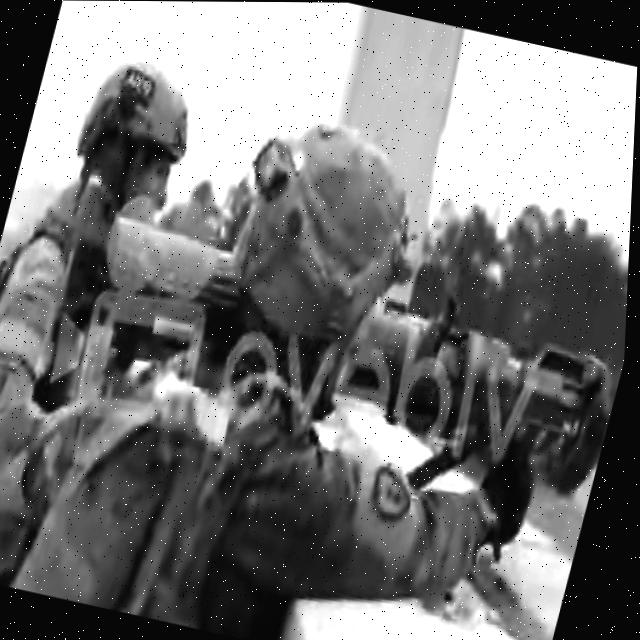rocket: (328, 280, 630, 518)
